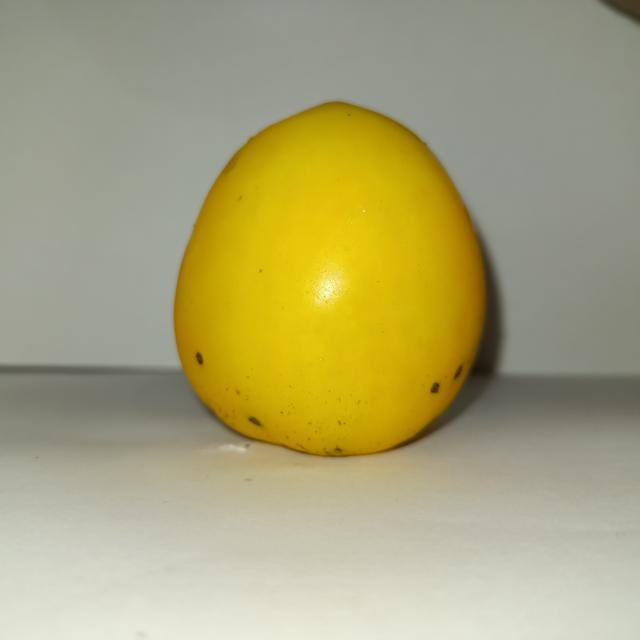Red: (171, 99, 489, 457)
